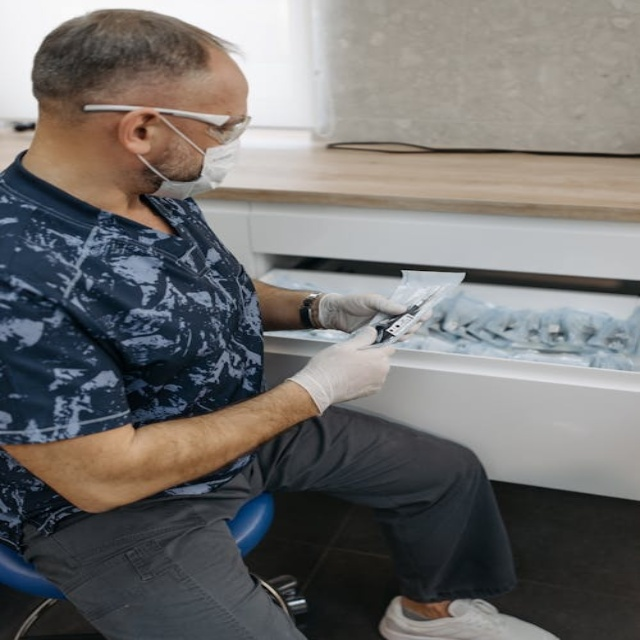Gafas: (84, 105, 251, 144)
Guantes: (283, 327, 399, 416), (309, 291, 413, 335)
Mascara: (136, 114, 241, 199)
